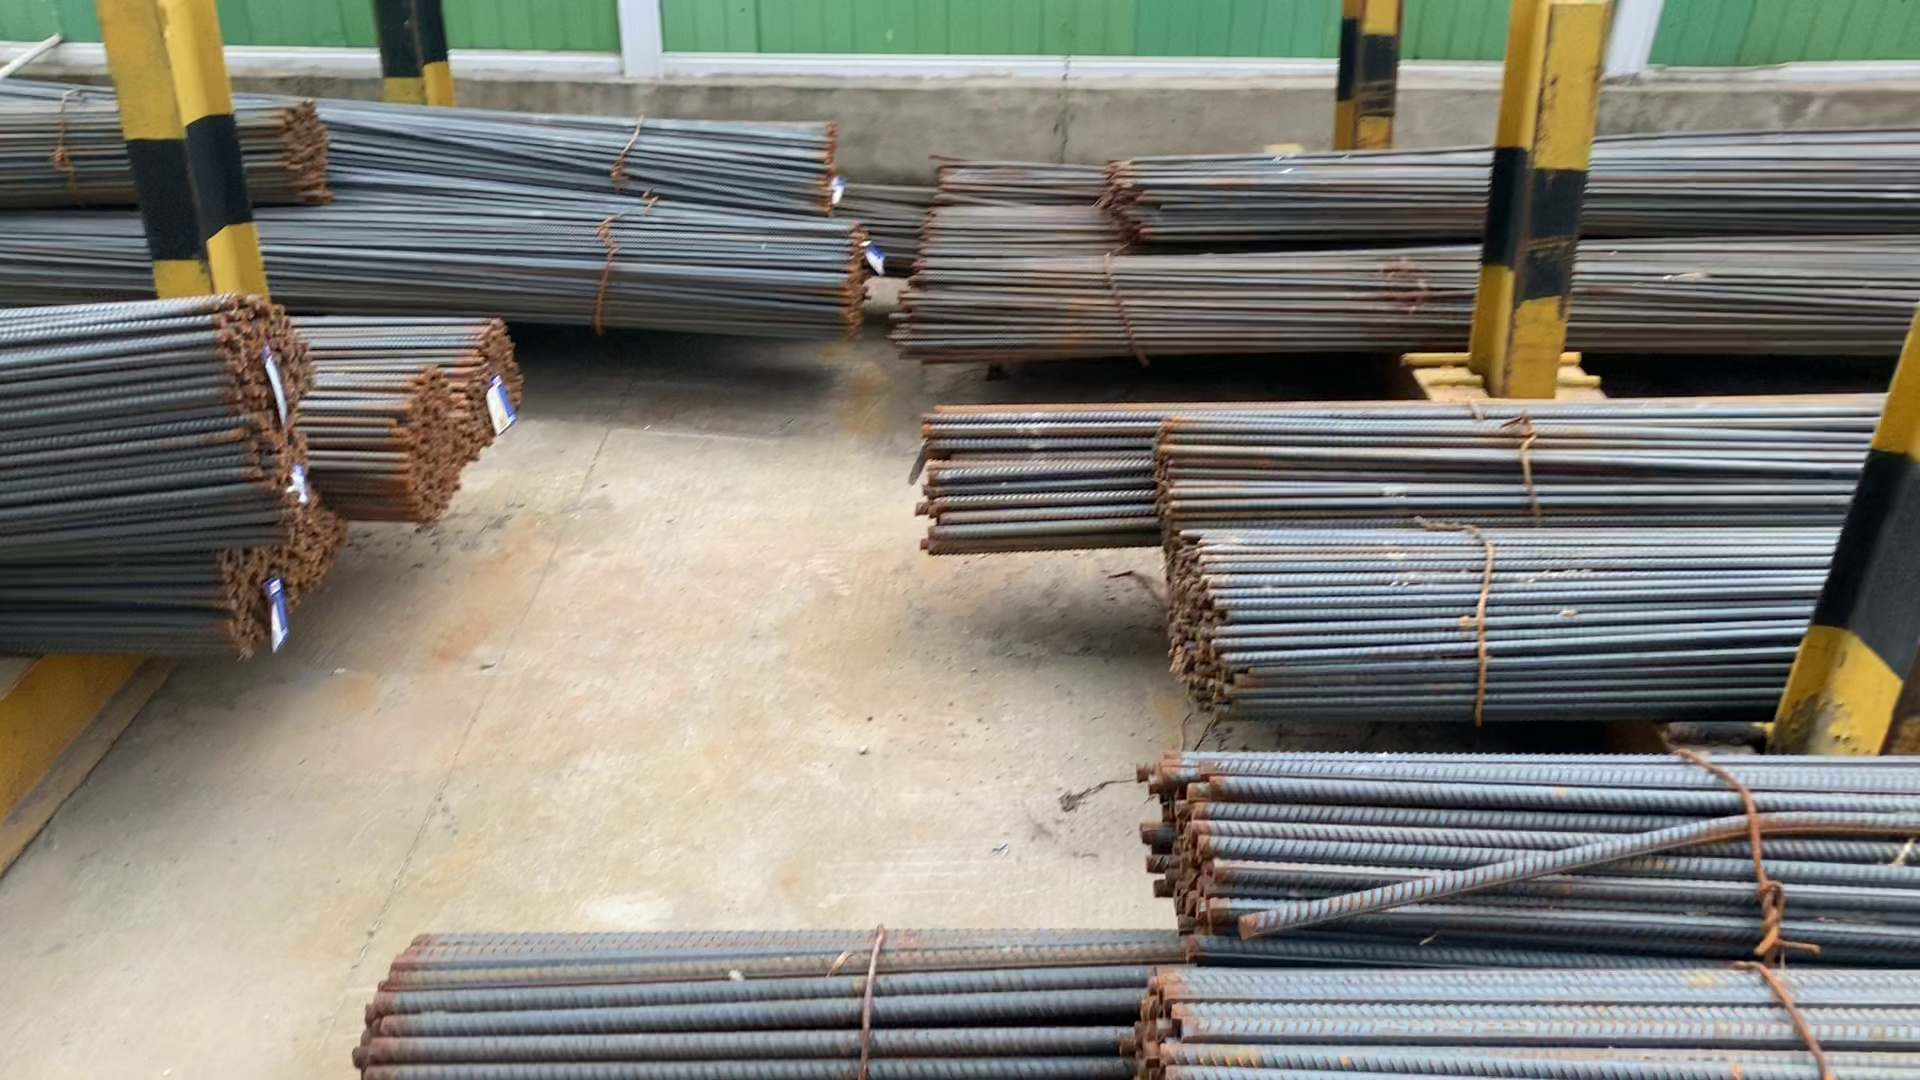rebar: (203, 299, 334, 504), (1127, 748, 1238, 931), (191, 520, 353, 644), (1164, 537, 1250, 703), (1102, 949, 1207, 1079), (380, 378, 460, 518), (454, 318, 537, 439), (273, 96, 345, 204), (1139, 423, 1204, 525), (1110, 156, 1160, 249), (806, 120, 852, 211), (837, 218, 873, 328)
